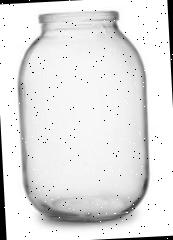glass: (13, 8, 155, 226)
